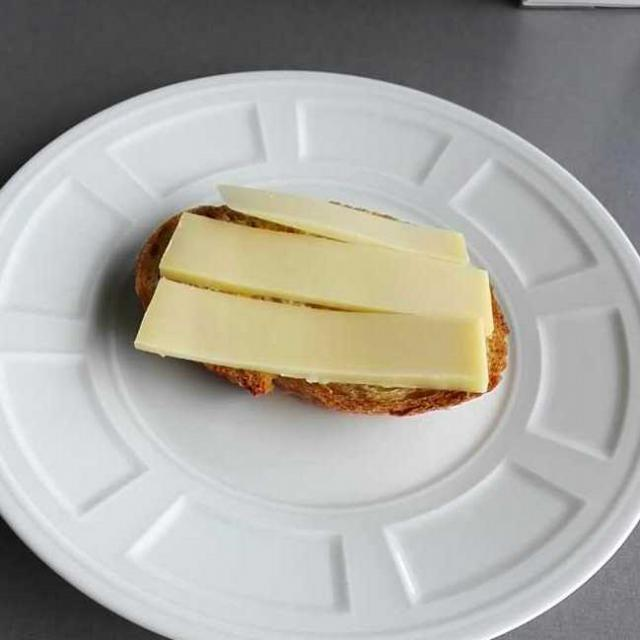bread: (130, 198, 516, 416)
cheese: (133, 181, 491, 394)
